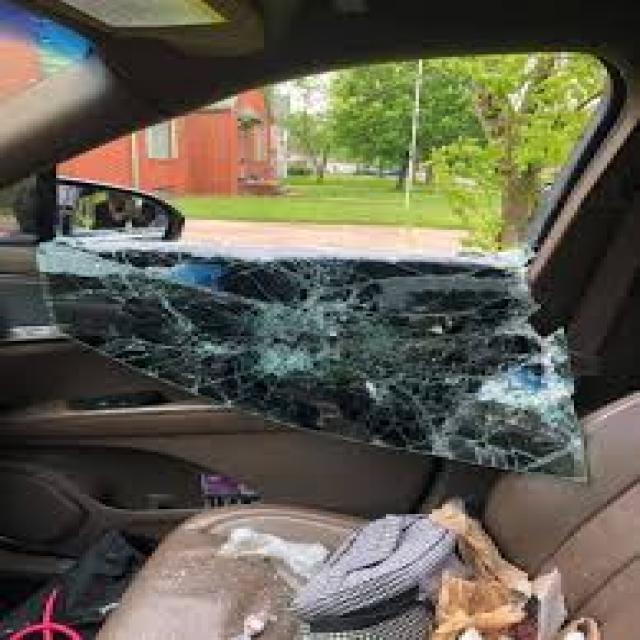damaged-window: (51, 48, 600, 486)
